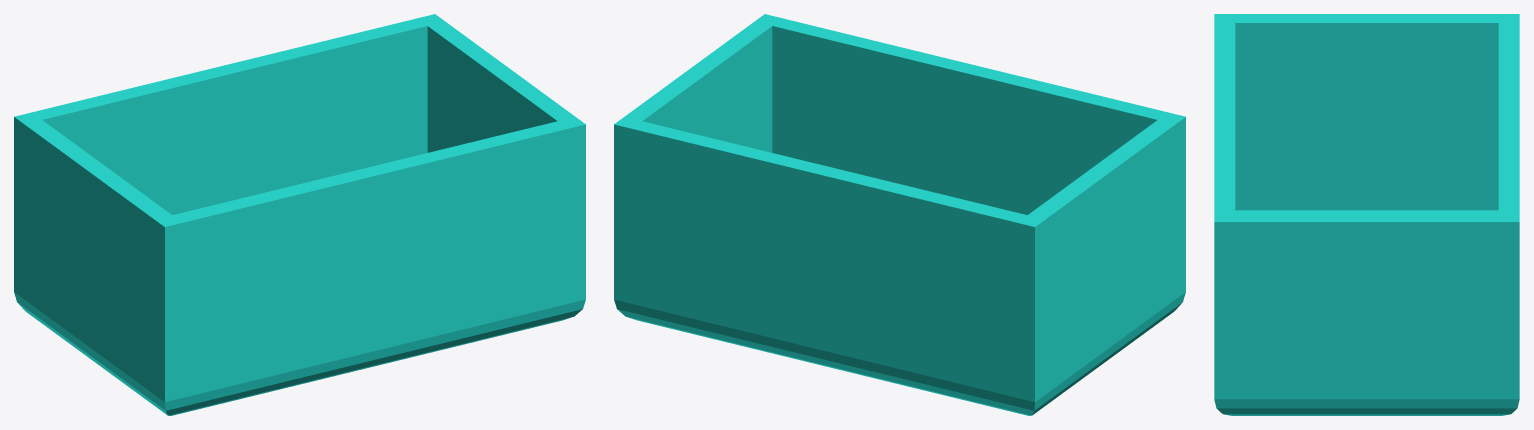
Rendered from NumbersBox.glb.
The picture shows the model from 3 angles, left to right: view 1: azimuth 30°, elevation 25°; view 2: azimuth 150°, elevation 25°; view 3: azimuth 270°, elevation 25°; orthographic projection.
Visible parts, largest first — view 1: BoxNumbers; view 2: BoxNumbers; view 3: BoxNumbers.
Boxes of the visible parts, left/top/right/bottom form: BoxNumbers: left=14, top=14, right=585, bottom=415; BoxNumbers: left=614, top=14, right=1185, bottom=415; BoxNumbers: left=1214, top=14, right=1519, bottom=415.
Bounding box in the file's own units: 9.51 × 4.34 × 5.9.
